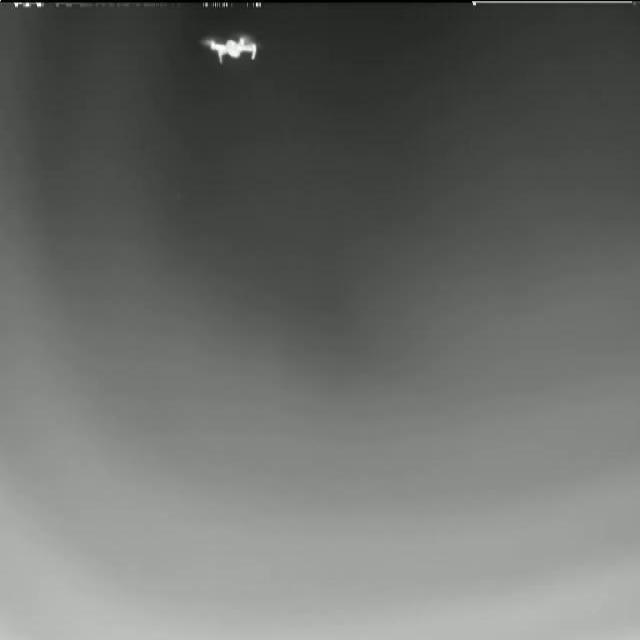DRONE: (196, 32, 267, 66)
